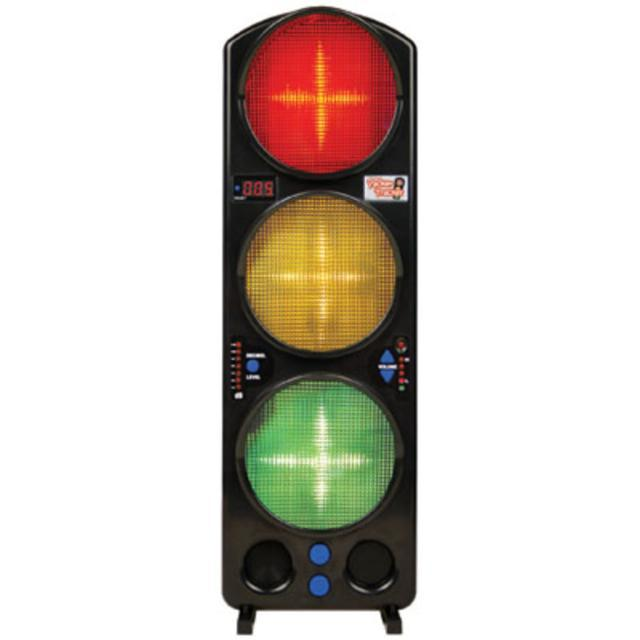traffic light: (223, 3, 415, 605)
